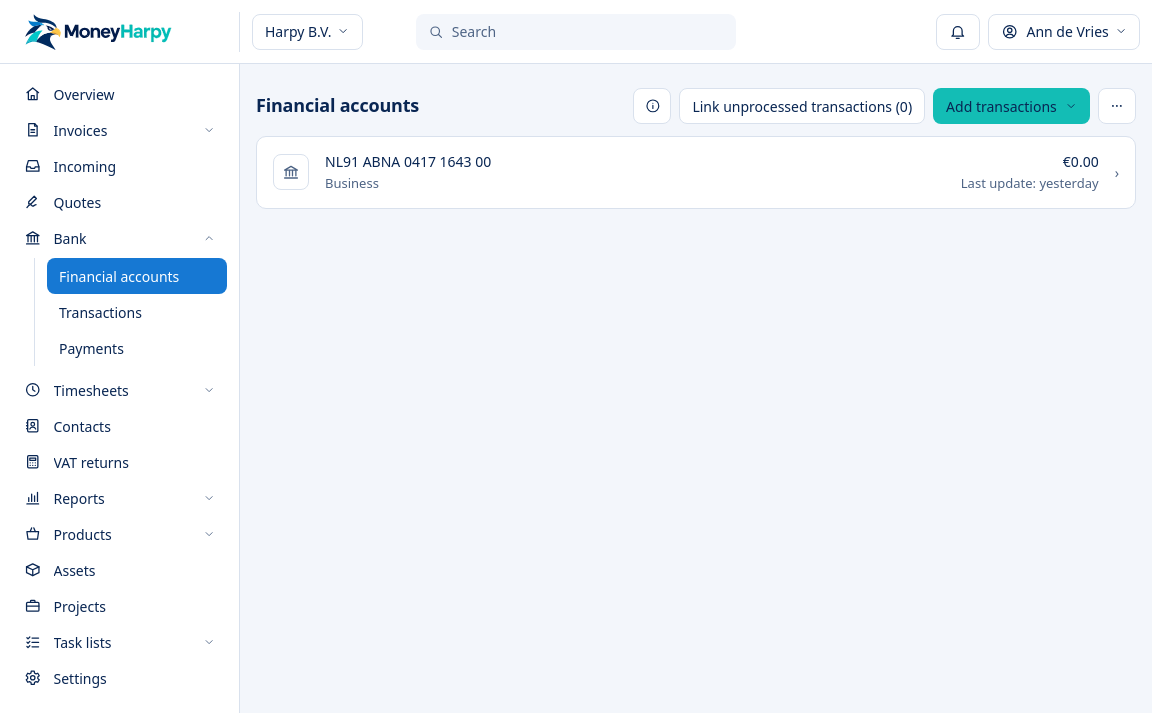
Test: connecting a bank › still offers the direct banks when Enable Banking is off
Click the button named "More actions": (1117, 106) left=1098, top=88, right=1136, bottom=124
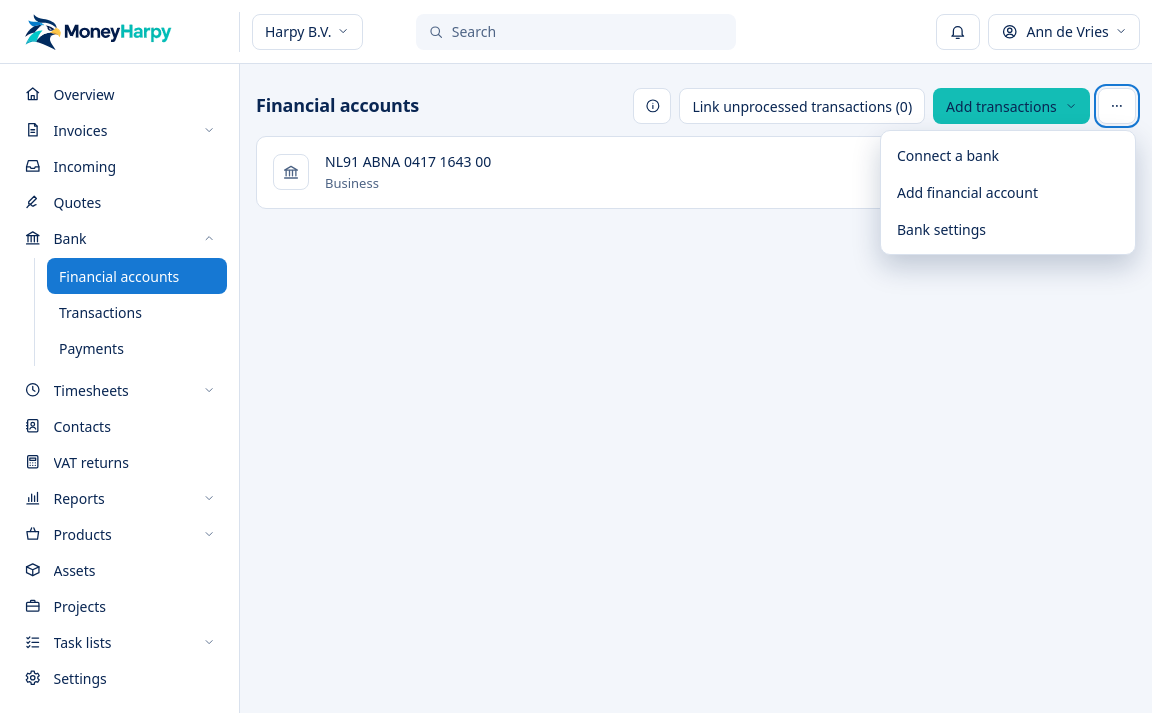
Click the button "Connect a bank": (1008, 156) left=887, top=137, right=1129, bottom=174
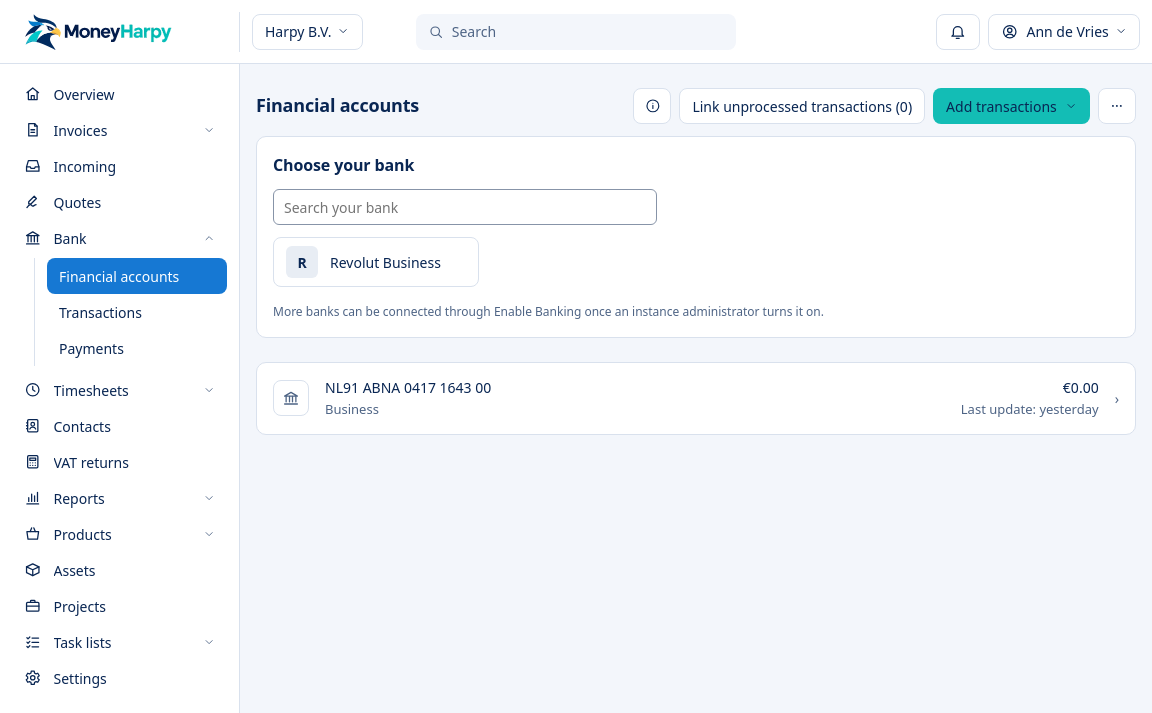
Result: the text "once an instance administrator turns it on" is shown at left=273, top=303, right=824, bottom=320
Result: the button "R Revolut Business" is shown at left=273, top=237, right=478, bottom=287
